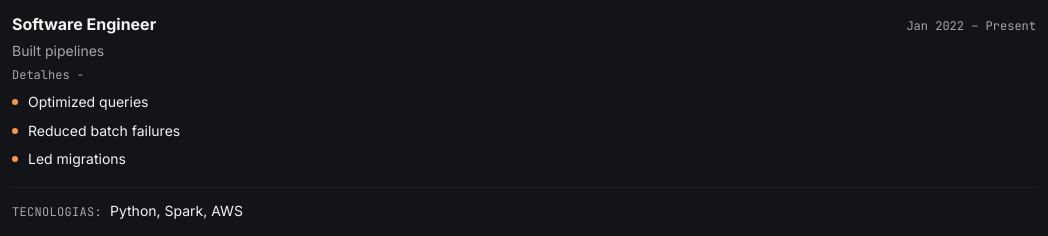
Test: RoleCollapsible › toggle closes an open collapsible
Check: the text "Built pipelines" is shown, box x1=12 y1=42 x2=104 y2=59
Click the button. click: (48, 75)
box: x1=12 y1=67 x2=84 y2=83
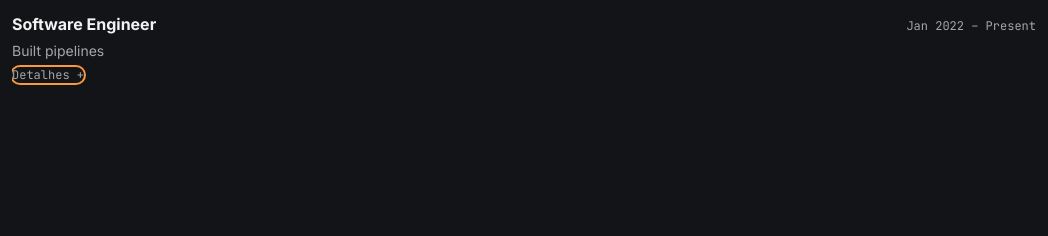
Check: the text "Built pipelines" is shown, box x1=12 y1=42 x2=104 y2=59
Check: the text "Led migrations" is gone
